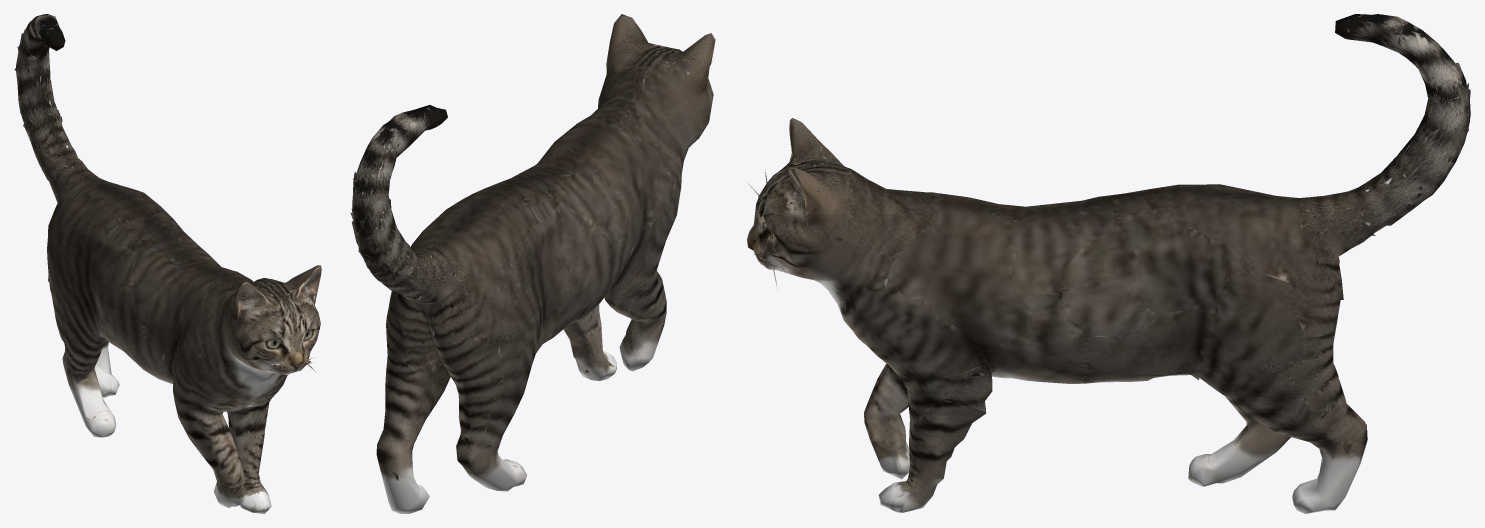
File: katze.glb
The picture shows the model from 3 angles, left to right: view 1: azimuth 30°, elevation 25°; view 2: azimuth 150°, elevation 25°; view 3: azimuth 270°, elevation 25°; orthographic projection. The views are drawn at different scales.
Bounding box in the file's own units: 0.4147 × 1.36 × 1.89.
Materials: 1 (1 with a texture image).
